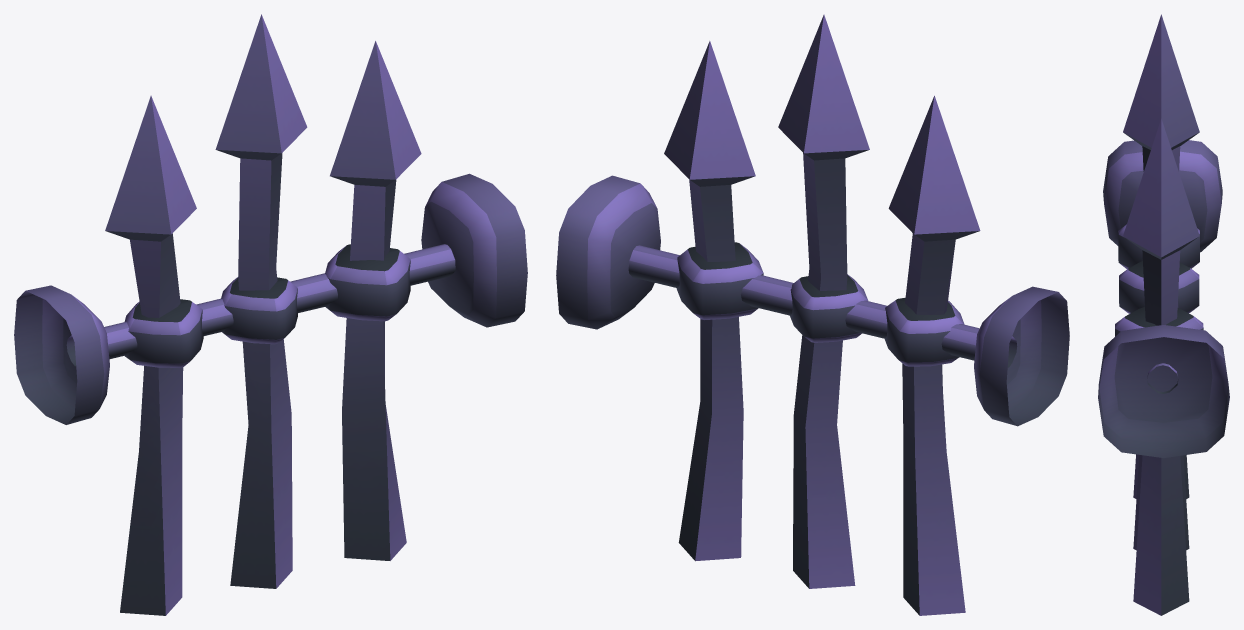
The model's file is undead_fence.fbx.
The picture shows the model from 3 angles, left to right: view 1: azimuth 30°, elevation 25°; view 2: azimuth 150°, elevation 25°; view 3: azimuth 270°, elevation 25°; orthographic projection. The views are drawn at different scales.
Parts seen in each view (by area): view 1: undead_fence; view 2: undead_fence; view 3: undead_fence.
Boxes of the visible parts, bbox=[...] form: undead_fence: bbox=[14, 14, 527, 615]; undead_fence: bbox=[556, 14, 1069, 615]; undead_fence: bbox=[1098, 14, 1229, 615].
Bounding box in the file's own units: 2.58 × 3.11 × 0.6954.
